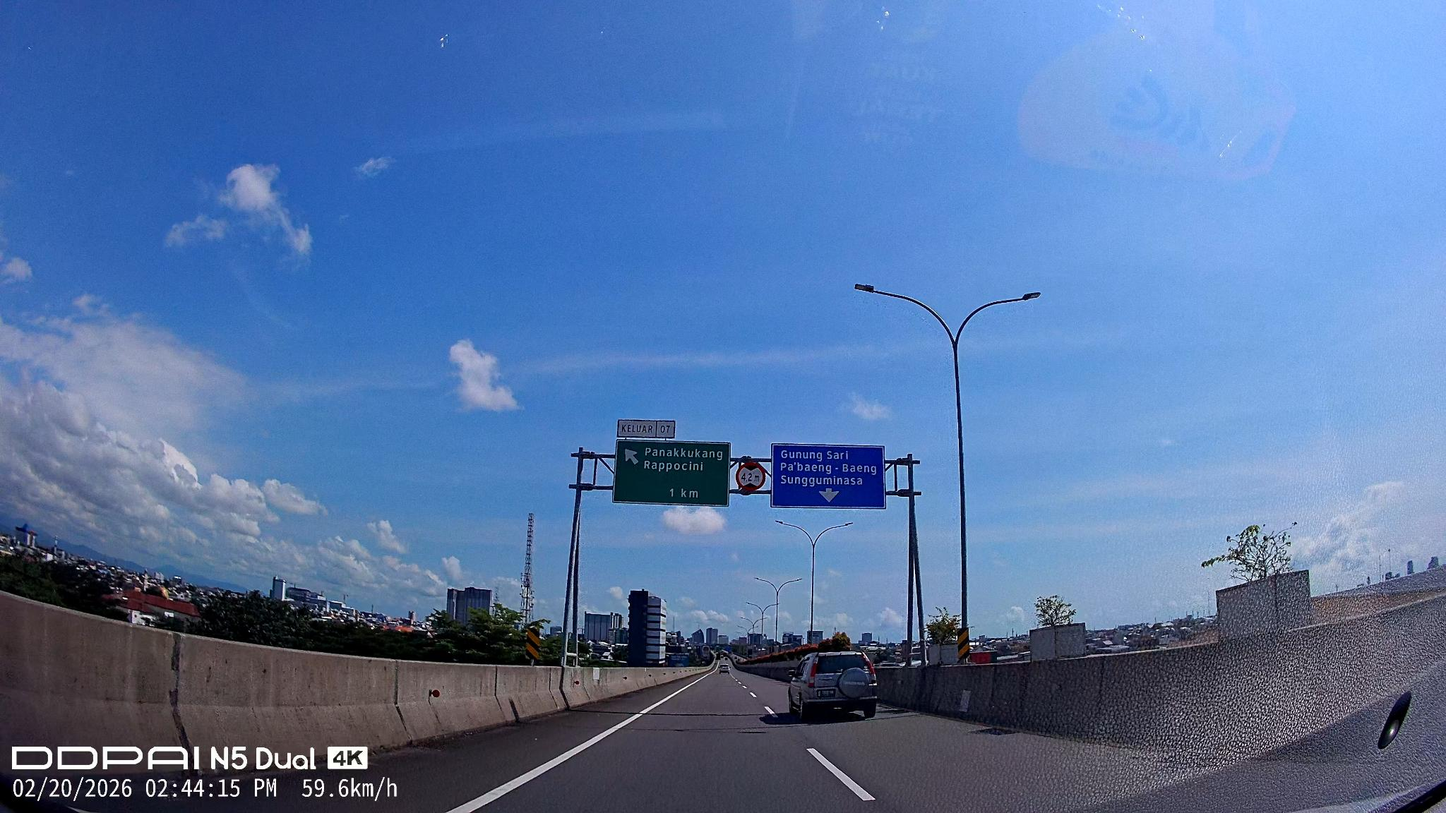rambu_teks: (611, 439, 731, 508), (771, 443, 887, 510)
